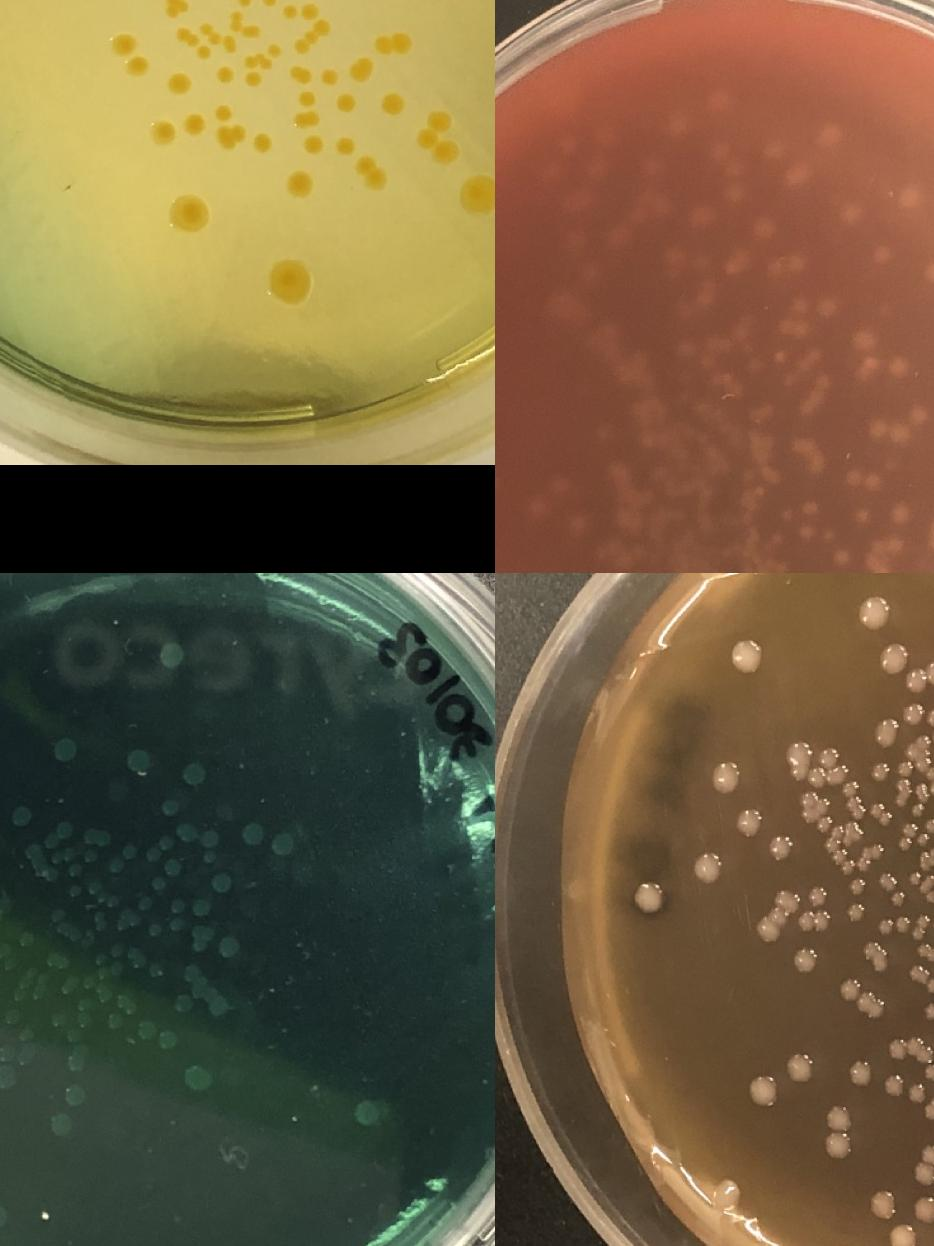pddamselae: (788, 742, 849, 788), (901, 683, 934, 745), (840, 979, 886, 1018), (824, 837, 870, 875), (824, 1103, 854, 1161), (900, 657, 934, 693), (882, 1076, 928, 1102), (912, 1141, 934, 1187), (710, 760, 740, 792), (878, 642, 908, 672), (734, 806, 764, 836), (712, 1180, 742, 1210), (786, 1052, 814, 1084), (750, 1074, 778, 1106), (866, 1188, 895, 1218), (860, 598, 889, 628), (732, 642, 761, 672), (636, 882, 665, 912), (846, 1057, 874, 1087), (694, 853, 722, 883), (146, 834, 174, 863), (768, 832, 796, 861), (43, 821, 72, 847), (192, 922, 216, 952), (872, 722, 900, 747), (772, 889, 800, 914), (912, 1193, 934, 1224), (793, 947, 819, 973), (756, 916, 782, 942), (184, 963, 210, 988), (890, 1224, 919, 1246), (204, 987, 227, 1014), (127, 748, 152, 772), (8, 804, 32, 829), (270, 832, 294, 856), (240, 821, 264, 845), (182, 764, 206, 788), (182, 1064, 206, 1088), (65, 1081, 89, 1105), (54, 738, 78, 762), (110, 942, 127, 975), (356, 1102, 379, 1126), (160, 646, 183, 670), (51, 1111, 74, 1135), (798, 912, 832, 928), (18, 1028, 36, 1058), (900, 823, 918, 851), (78, 996, 94, 1026), (912, 915, 931, 940), (896, 777, 912, 805), (85, 829, 111, 846), (888, 1039, 910, 1059), (212, 872, 232, 892), (161, 796, 181, 816), (219, 935, 238, 956), (136, 1020, 155, 1040), (158, 1030, 178, 1048), (916, 942, 934, 962), (910, 964, 928, 983), (871, 763, 889, 781), (868, 801, 886, 819), (847, 903, 865, 921), (864, 942, 881, 960), (808, 887, 826, 904), (164, 858, 182, 874), (86, 880, 104, 896), (194, 899, 211, 915), (136, 896, 153, 912), (124, 998, 141, 1014), (51, 1010, 68, 1026), (202, 848, 218, 864), (200, 829, 216, 845), (168, 917, 184, 933), (150, 873, 166, 889), (148, 922, 164, 938), (122, 842, 138, 858), (108, 1013, 124, 1029), (84, 847, 100, 863), (98, 986, 115, 1001), (179, 823, 194, 839), (176, 996, 191, 1012), (170, 897, 185, 913), (148, 962, 164, 977), (115, 917, 130, 933), (106, 892, 121, 908), (67, 1024, 82, 1040), (51, 849, 66, 865), (19, 930, 34, 946), (4, 1008, 19, 1024), (922, 1002, 934, 1022), (67, 861, 82, 876), (67, 882, 82, 897), (50, 905, 65, 920), (110, 856, 124, 872), (82, 973, 96, 989), (68, 1054, 84, 1068), (0, 1045, 14, 1061), (914, 781, 928, 795), (900, 761, 914, 775), (880, 874, 894, 888), (850, 879, 864, 893), (818, 818, 832, 832), (0, 943, 12, 959), (0, 1205, 8, 1229), (910, 803, 923, 817), (907, 871, 921, 884), (878, 920, 892, 932), (896, 918, 909, 930), (892, 892, 905, 904), (926, 765, 934, 779), (927, 979, 934, 993)
pdpiscicida: (798, 374, 832, 414), (798, 438, 822, 469), (776, 317, 808, 338), (872, 537, 904, 554), (864, 554, 890, 573), (800, 501, 818, 518), (570, 514, 588, 530), (911, 405, 928, 421), (901, 188, 918, 204), (864, 474, 881, 490), (854, 332, 871, 348), (854, 508, 871, 524), (844, 470, 861, 486), (819, 299, 836, 315), (768, 260, 785, 276), (726, 161, 743, 177), (872, 420, 888, 436), (832, 550, 848, 566), (772, 349, 788, 365), (714, 141, 730, 157), (530, 499, 546, 515), (893, 423, 908, 439), (893, 504, 908, 520), (863, 357, 878, 373), (821, 525, 836, 541), (797, 525, 812, 541), (791, 254, 806, 270), (754, 220, 770, 235), (550, 476, 565, 492), (876, 242, 890, 258), (844, 207, 858, 223), (794, 298, 808, 314), (726, 184, 740, 200), (891, 360, 906, 374), (780, 506, 794, 520), (928, 519, 934, 549), (928, 261, 934, 277)
vharveyi: (416, 109, 462, 168), (199, 8, 260, 52), (266, 257, 312, 303), (457, 171, 495, 217), (292, 18, 332, 53), (171, 195, 207, 231), (355, 154, 387, 190), (243, 43, 282, 69), (372, 30, 412, 54), (216, 124, 246, 148), (381, 92, 405, 116), (181, 112, 205, 136), (167, 70, 191, 94), (152, 120, 176, 144), (288, 171, 311, 196), (111, 31, 135, 54), (350, 60, 372, 83), (214, 63, 237, 85), (174, 26, 198, 47), (334, 92, 356, 114), (334, 134, 356, 156), (302, 134, 324, 156), (126, 56, 148, 78), (289, 64, 313, 84), (253, 132, 274, 154), (164, 0, 190, 16), (294, 111, 320, 126), (214, 103, 234, 122), (320, 67, 338, 85), (280, 4, 298, 20), (301, 3, 318, 19), (297, 91, 314, 107), (243, 71, 260, 87), (196, 45, 210, 61), (237, 0, 251, 7), (262, 0, 276, 5)
